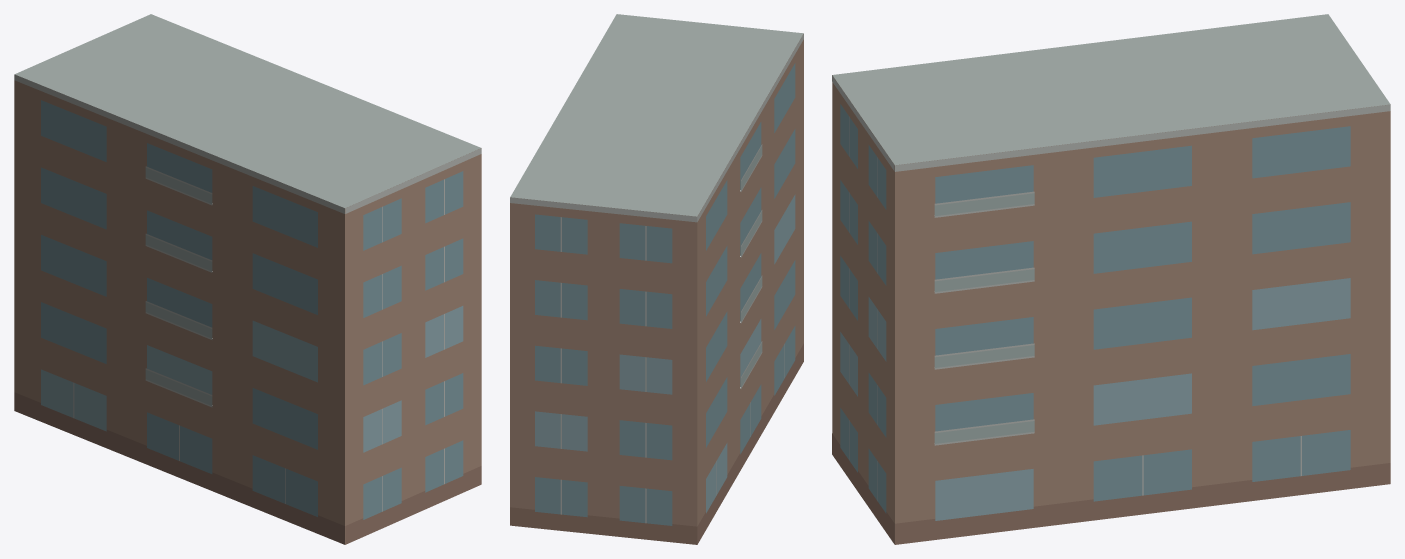
File: survey-upis-32620481.glb
3 renders of one model, left to right at view 1: azimuth 30°, elevation 25°; view 2: azimuth 150°, elevation 25°; view 3: azimuth 270°, elevation 25°, orthographic. The views are drawn at different scales.
Parts seen in each view (by area): view 1: survey-upis-32620481.tmp; view 2: survey-upis-32620481.tmp; view 3: survey-upis-32620481.tmp.
Boxes of the visible parts, left/top/right/bottom form: survey-upis-32620481.tmp: left=14, top=14, right=481, bottom=544; survey-upis-32620481.tmp: left=510, top=14, right=803, bottom=544; survey-upis-32620481.tmp: left=832, top=14, right=1390, bottom=544.
Size of the model in its own units: 11.89 by 13.9 by 18.54.
